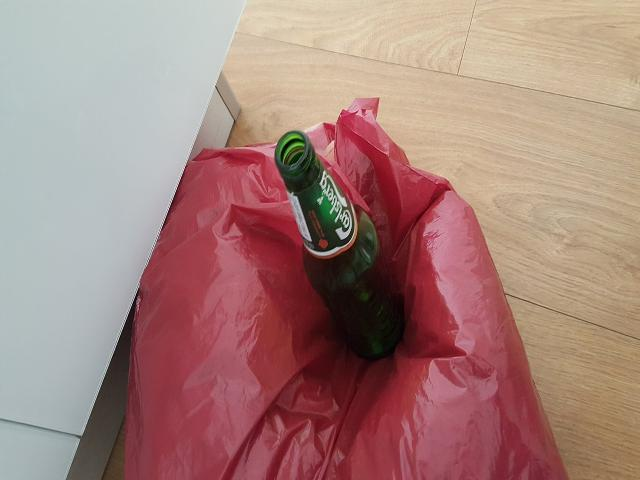beer: (276, 129, 406, 356)
